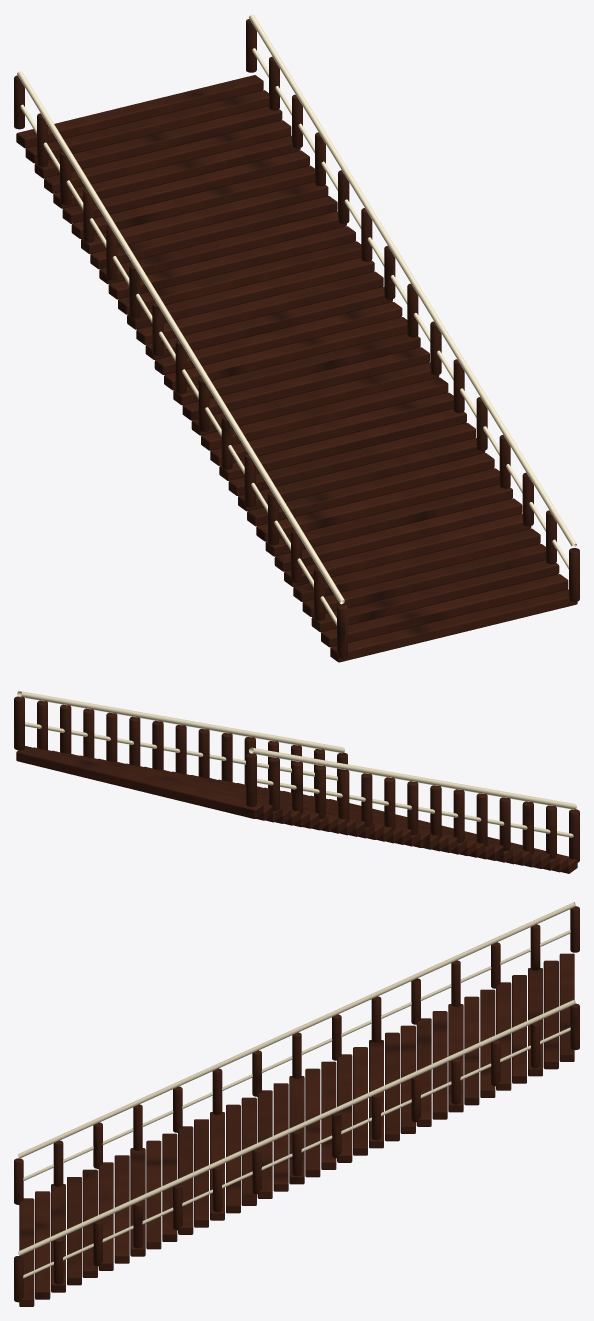
File: bridge-wood.glb
3 renders of one model, top to bottom at view 1: azimuth 30°, elevation 25°; view 2: azimuth 150°, elevation 25°; view 3: azimuth 270°, elevation 25°, orthographic. The views are drawn at different scales.
Visible parts, largest first — view 1: Timber plank, Rope handrail; view 2: Timber plank, Rope handrail; view 3: Timber plank, Rope handrail.
Boxes of the visible parts, <box> form: Timber plank: <box>14,19,579,662</box>; Rope handrail: <box>17,14,576,625</box>; Timber plank: <box>14,696,579,873</box>; Rope handrail: <box>17,691,576,837</box>; Timber plank: <box>14,906,579,1306</box>; Rope handrail: <box>17,902,576,1278</box>.
Bounding box in the file's own units: 6.04 × 8.5 × 14.24.
2 materials, 1 textured.
